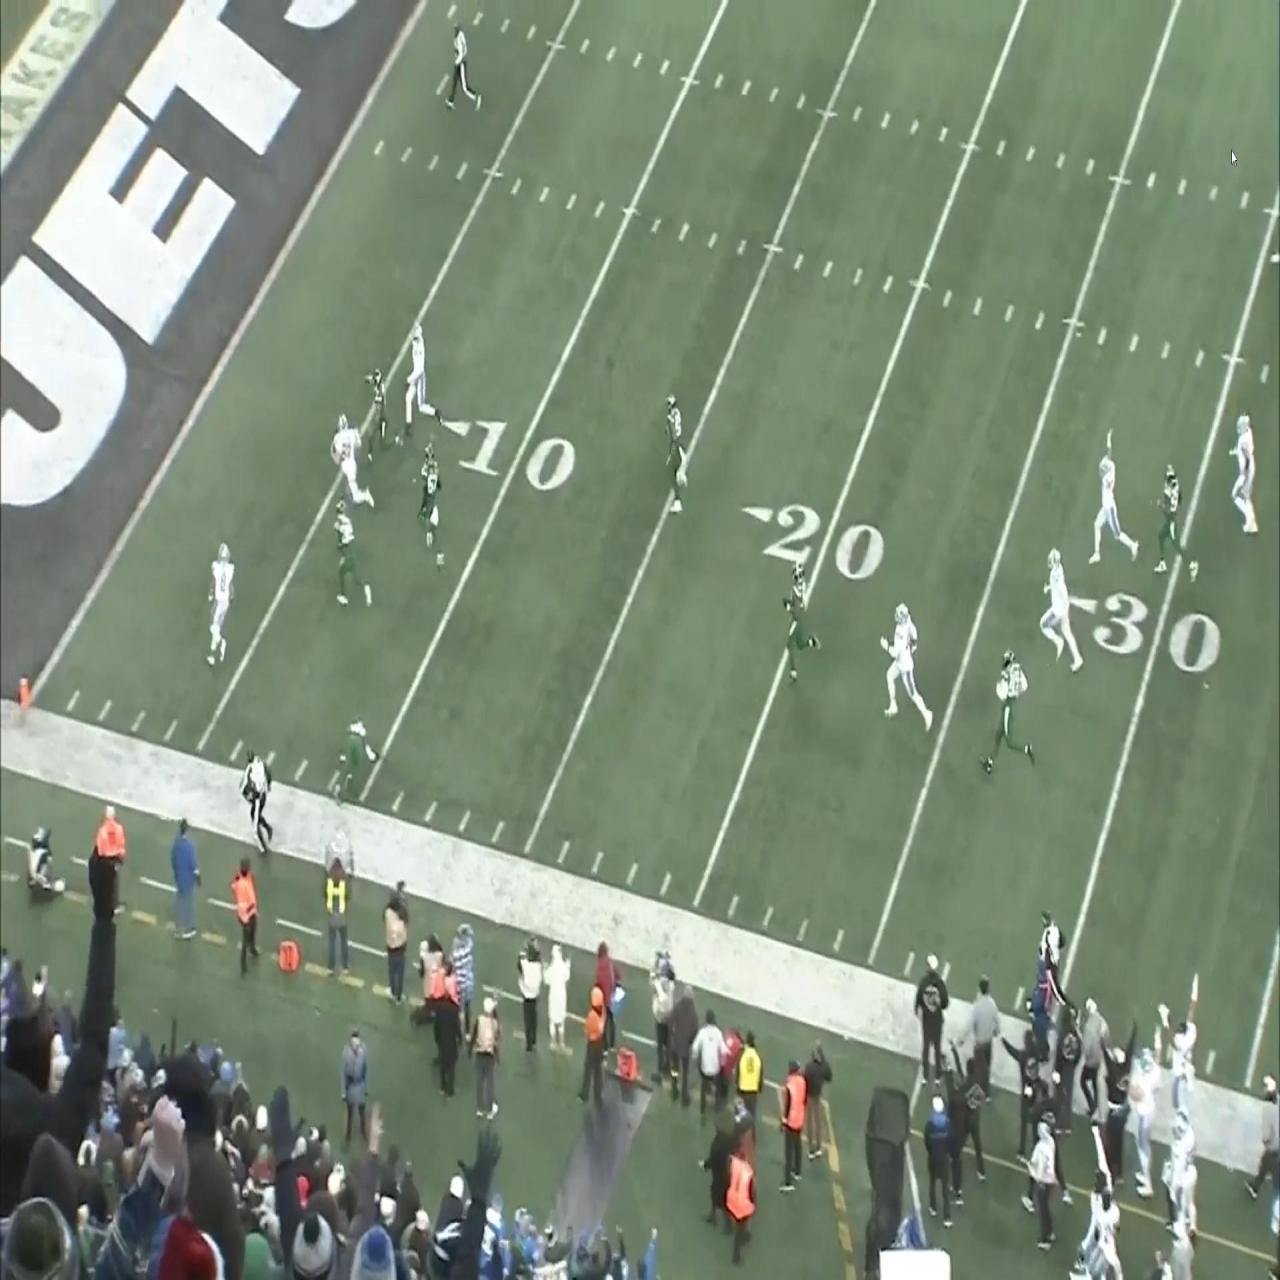10L: (436, 413, 578, 491)
20L: (741, 497, 885, 584)
30L: (1068, 590, 1221, 672)
